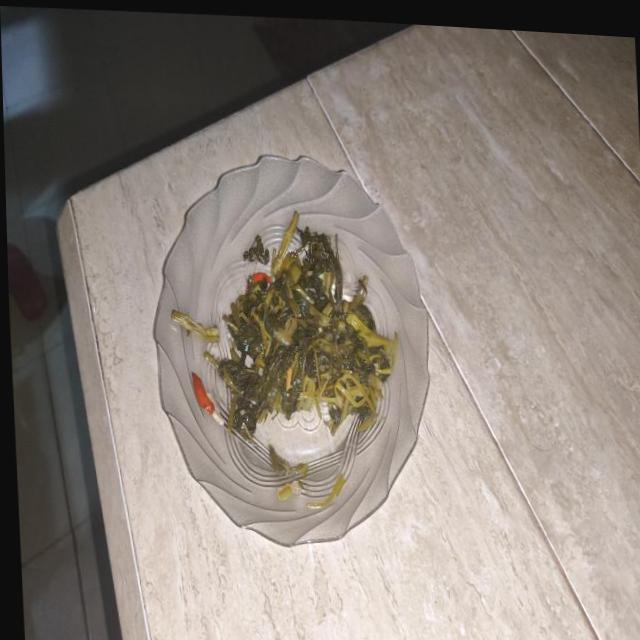tumis_kangkung: (204, 229, 402, 457)
